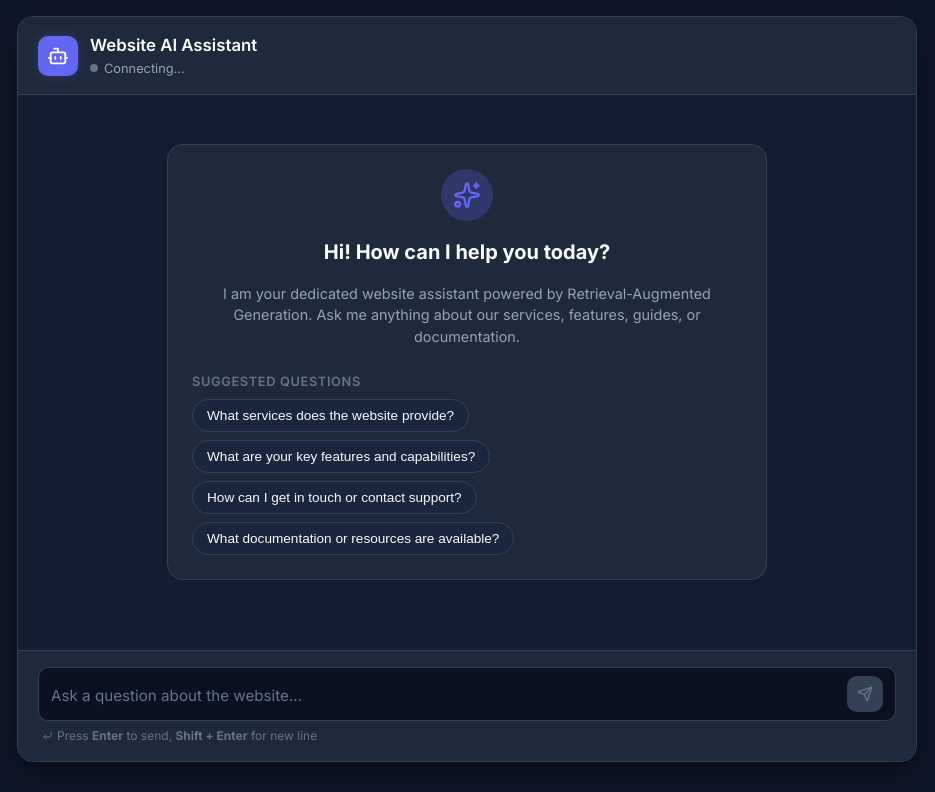
it: Chatbot component › sends a question and renders assistant answer and sources
In the text box named "Message input": x=444, y=696 [51,681,837,712], type "What services do you offer?"
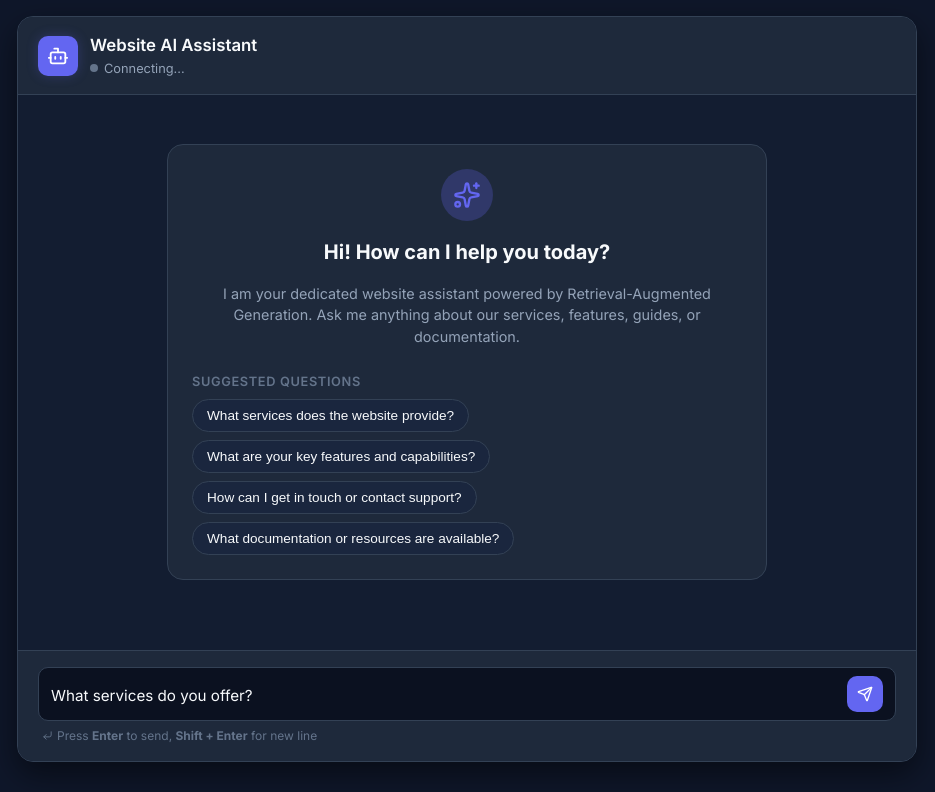
Click the button named "Send message": x=865, y=694 [847,676,883,712]
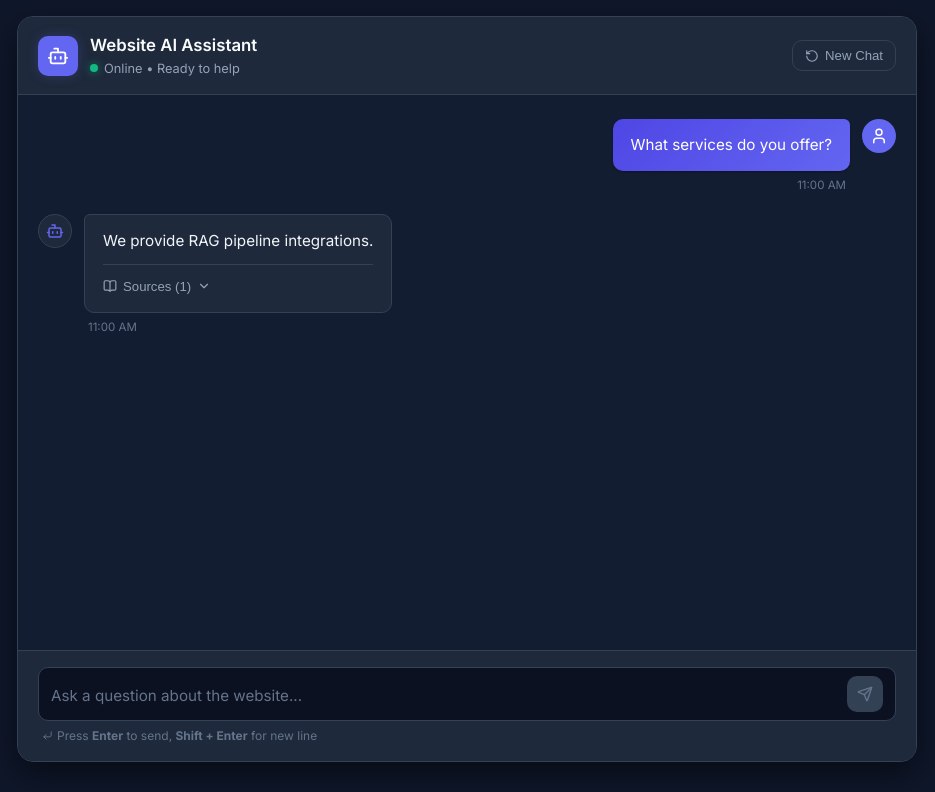
Check: the text "What services do you offer?" is shown, box [630,133,832,157]
Check: the text "We provide RAG pipeline integrations." is shown, box [103,229,374,254]
Check: the text "Sources (1)" is shown, box [123,279,191,294]
